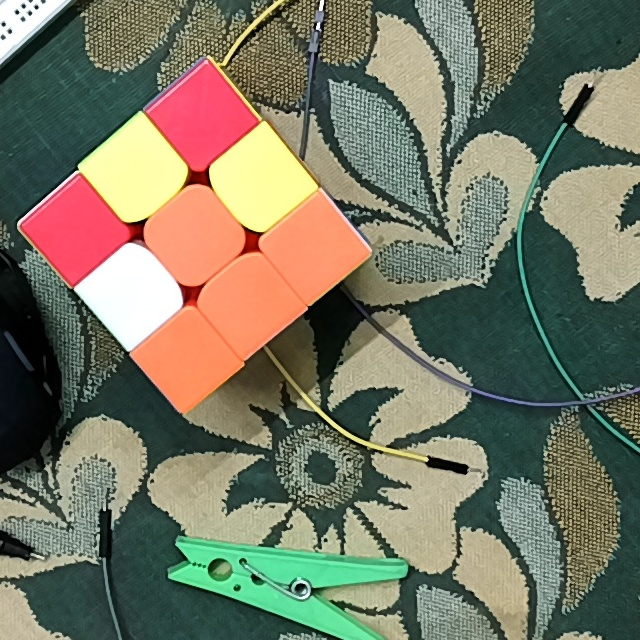tile: (229, 151, 290, 207), (222, 273, 280, 331), (103, 266, 162, 322), (107, 142, 167, 197), (166, 207, 223, 264), (47, 201, 105, 256), (159, 331, 215, 387), (288, 219, 342, 277), (171, 93, 228, 141)
